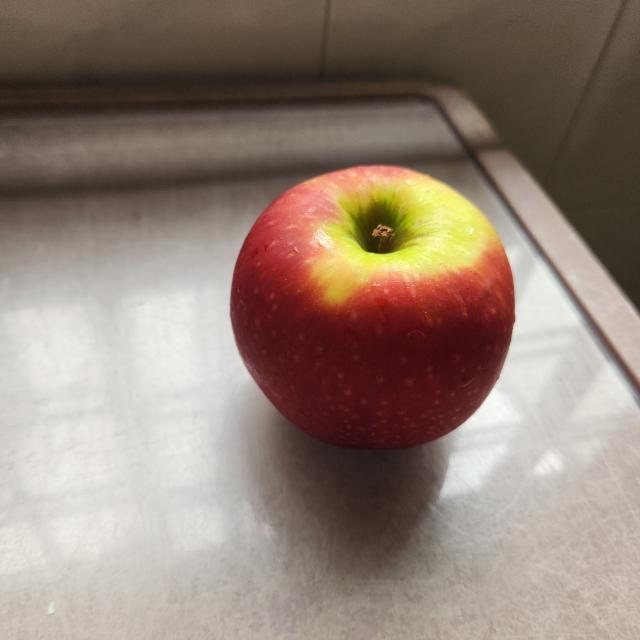apple: (225, 152, 522, 464)
